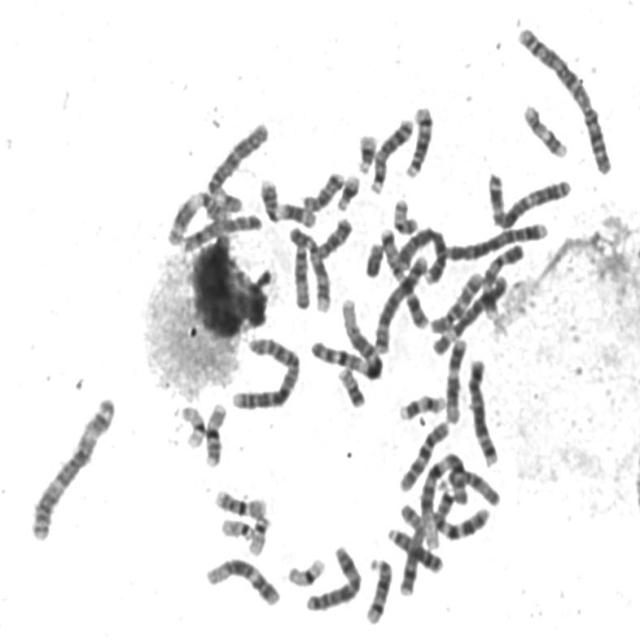A1: (305, 295, 386, 382), (415, 449, 470, 548)
A2: (514, 22, 615, 176), (226, 331, 302, 411)
A3: (24, 389, 119, 544), (484, 168, 574, 231)
B4: (440, 218, 550, 264), (391, 222, 448, 286)
B5: (369, 250, 431, 356), (463, 355, 501, 468)
C10: (395, 416, 452, 494), (426, 267, 485, 335)
C11: (162, 185, 238, 247), (256, 174, 319, 229)
C12: (201, 552, 282, 608), (441, 335, 469, 425)
C6: (427, 270, 508, 358), (203, 117, 271, 215)
C7: (377, 224, 431, 332), (429, 481, 491, 542)
C8: (179, 210, 264, 253), (395, 500, 428, 598)
C9: (285, 222, 333, 314), (477, 238, 527, 321)
D13: (366, 113, 416, 195), (383, 523, 445, 575)
D14: (401, 102, 435, 180), (361, 553, 394, 626)
D15: (436, 463, 504, 508), (286, 224, 314, 312)
E16: (199, 398, 229, 468), (211, 484, 269, 520)
E17: (519, 98, 570, 160), (395, 390, 447, 422)
E18: (299, 167, 346, 213), (313, 212, 354, 260)
F19: (284, 553, 328, 588), (177, 401, 207, 450)
F20: (334, 363, 367, 409), (389, 194, 420, 236)
G21: (332, 170, 362, 212), (352, 128, 378, 174)
G22: (244, 512, 272, 558), (217, 515, 256, 542)
X: (302, 540, 362, 614)
Y: (362, 238, 385, 279)
